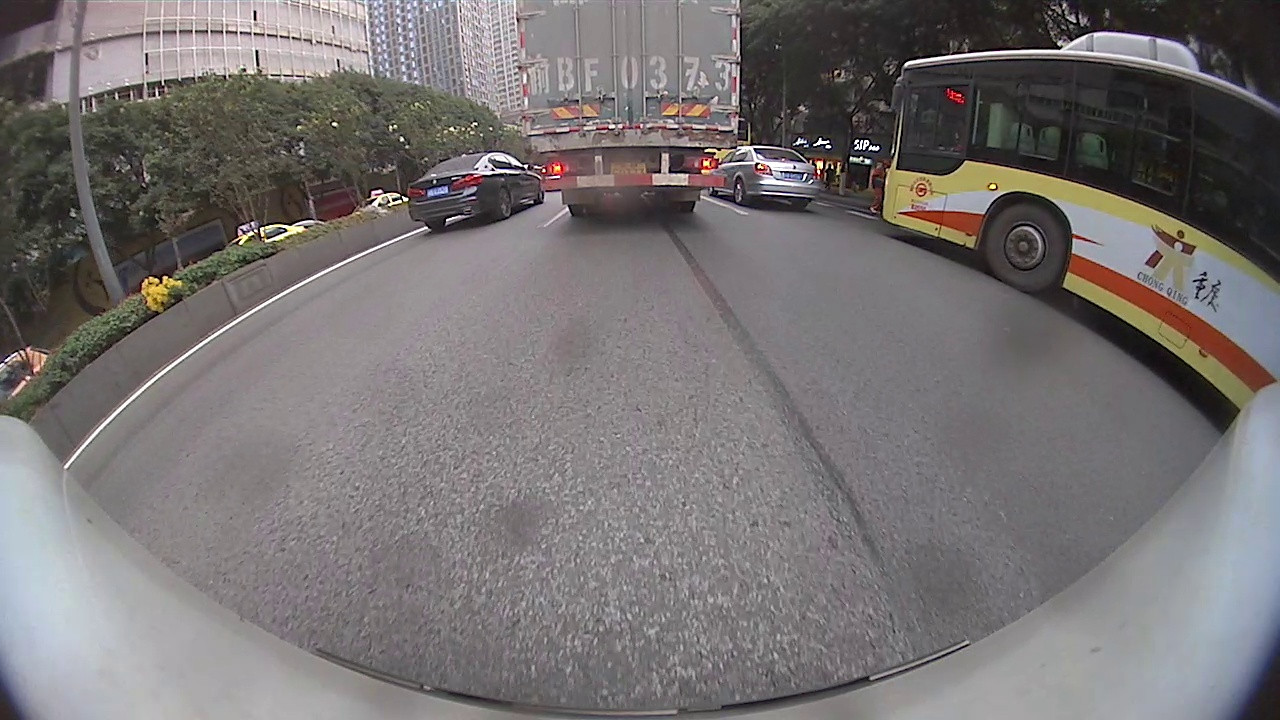bus: (883, 29, 1276, 412)
car: (409, 153, 548, 232), (704, 147, 821, 206)
front: (981, 200, 1070, 294)
rear: (494, 186, 514, 220), (732, 178, 746, 207)
truck: (515, 2, 746, 217)
